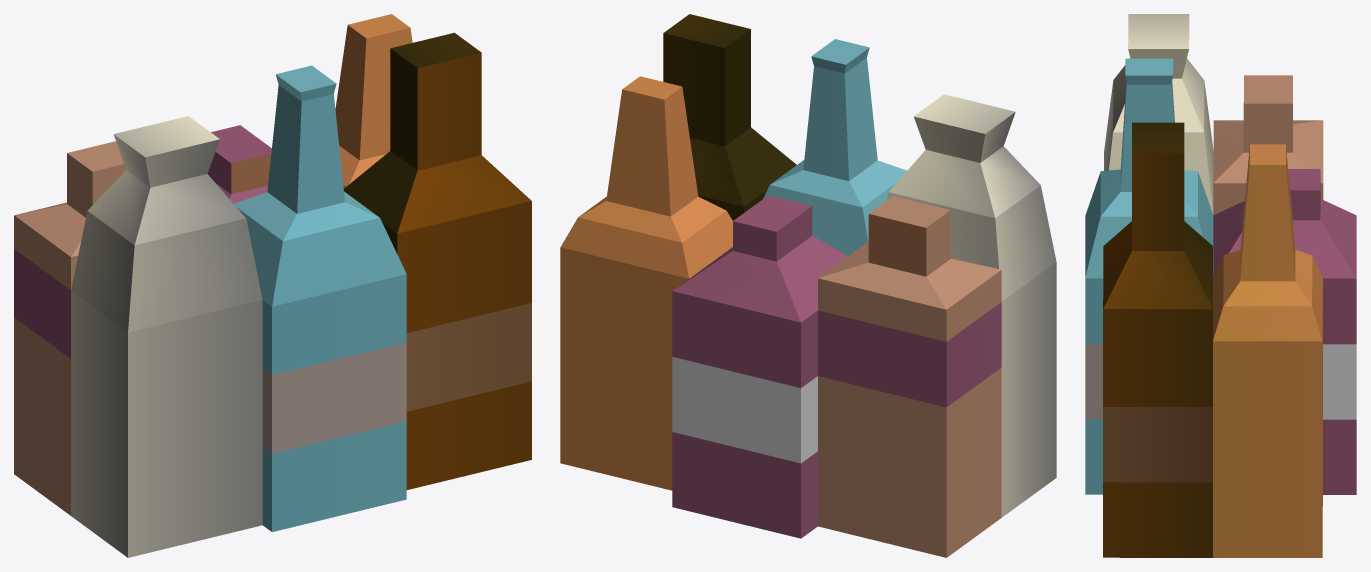
The model's file is B01_Bouteille pack_2.fbx.
The picture shows the model from 3 angles, left to right: view 1: azimuth 30°, elevation 25°; view 2: azimuth 150°, elevation 25°; view 3: azimuth 270°, elevation 25°; orthographic projection. The views are drawn at different scales.
Parts seen in each view (by area): view 1: B01_Bouteille pack_2; view 2: B01_Bouteille pack_2; view 3: B01_Bouteille pack_2.
Part boxes in pixels (x1=…): B01_Bouteille pack_2: x1=14, y1=14, x2=531, y2=557; B01_Bouteille pack_2: x1=560, y1=14, x2=1056, y2=557; B01_Bouteille pack_2: x1=1085, y1=14, x2=1356, y2=557.
Size of the model in its own units: 25.52 by 24.92 by 15.48.
